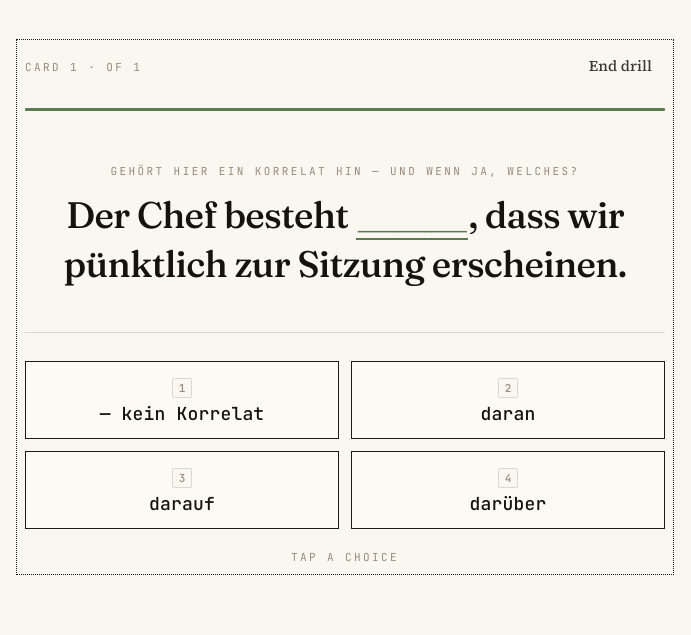
Scenario: KorrelatRunner — smoke tests › reveals feedback after clicking an option, always showing the explanation
Step 1. Click the button with class "choice" showing "1 — kein Korrelat" → coordinates (182, 400), box [25,361,339,439]
(page scrolled)
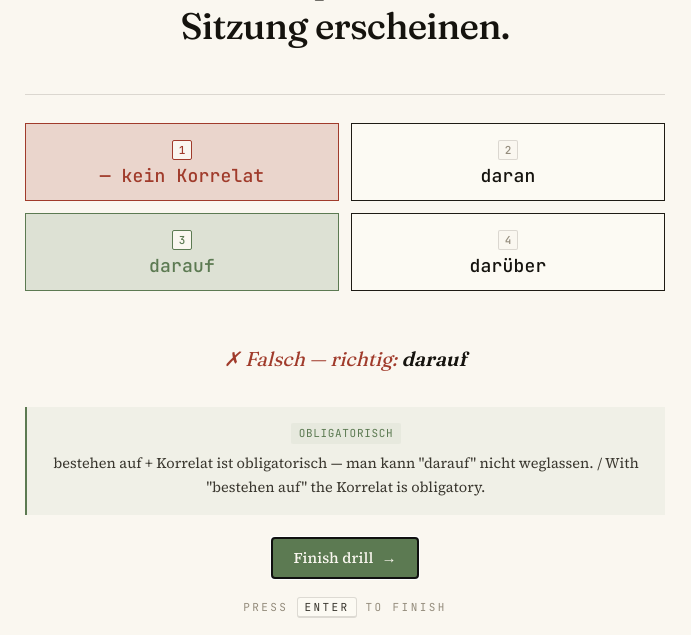
Now the element with class "drill-feedback" is shown, box [25,315,665,579]
Now the element with class "reveal" is shown, box [25,407,665,515]
Now the element with class "reveal" shows "bestehen auf + Korrelat ist obligatorisch — man kann \"darauf\" nicht weglassen. / With \"bestehen auf\" the Korrelat is obligatory.", box [53,453,639,497]
